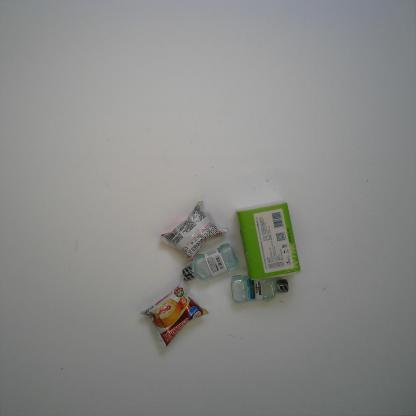Dessert: (139, 277, 209, 349), (160, 200, 228, 262)
Personal Hygiene: (181, 242, 240, 282), (231, 274, 289, 302)
Tissue: (235, 199, 301, 281)
